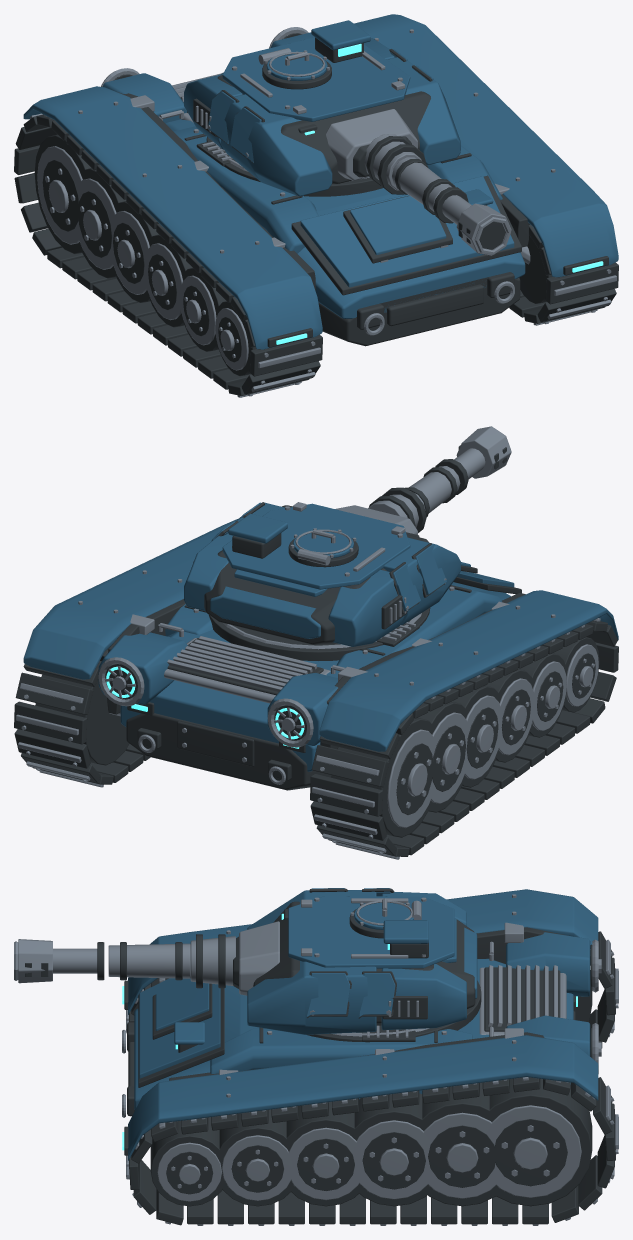
The model's file is tankHybridUpgraded.glb.
The picture shows the model from 3 angles, top to bottom: view 1: azimuth 30°, elevation 25°; view 2: azimuth 150°, elevation 25°; view 3: azimuth 270°, elevation 25°; orthographic projection.
Visible parts, largest first — view 1: modelRoot-team-primary, turretYaw-team-primary, modelRoot-structure, turretYaw-structure, turretYaw-neutral-metal, barrelRecoil-neutral-metal, barrelRecoil-structure, modelRoot-neutral-metal, wheelL5-structure, wheelL5-neutral-metal, wheelL4-structure, wheelL3-structure (+17 smaller); view 2: modelRoot-team-primary, turretYaw-team-primary, modelRoot-structure, modelRoot-neutral-metal, turretYaw-structure, barrelRecoil-neutral-metal, turretYaw-neutral-metal, wheelL5-structure, wheelR5-structure, wheelL5-neutral-metal, wheelL4-structure, barrelRecoil-structure (+17 smaller); view 3: modelRoot-team-primary, turretYaw-team-primary, modelRoot-structure, wheelR5-structure, barrelRecoil-neutral-metal, turretYaw-structure, modelRoot-neutral-metal, wheelR4-structure, wheelR5-neutral-metal, wheelR3-structure, turretYaw-neutral-metal, wheelR2-structure (+28 smaller).
Part boxes in pixels (left/top/right/bottom): modelRoot-team-primary: left=23, top=14, right=618, bottom=349; turretYaw-team-primary: left=184, top=20, right=460, bottom=196; modelRoot-structure: left=113, top=33, right=608, bottom=347; turretYaw-structure: left=193, top=37, right=432, bottom=196; turretYaw-neutral-metal: left=195, top=48, right=417, bottom=181; barrelRecoil-neutral-metal: left=364, top=134, right=511, bottom=255; barrelRecoil-structure: left=366, top=136, right=505, bottom=249; modelRoot-neutral-metal: left=78, top=27, right=555, bottom=335; wheelL5-structure: left=34, top=134, right=90, bottom=254; wheelL5-neutral-metal: left=37, top=146, right=83, bottom=244; wheelL4-structure: left=78, top=168, right=126, bottom=278; wheelL3-structure: left=113, top=201, right=158, bottom=302; modelRoot-team-primary: left=23, top=518, right=618, bottom=771; turretYaw-team-primary: left=184, top=502, right=460, bottom=646; modelRoot-structure: left=105, top=565, right=525, bottom=790; modelRoot-neutral-metal: left=78, top=570, right=555, bottom=784; turretYaw-structure: left=193, top=502, right=444, bottom=660; barrelRecoil-neutral-metal: left=368, top=426, right=511, bottom=527; turretYaw-neutral-metal: left=223, top=502, right=446, bottom=649; wheelL5-structure: left=331, top=717, right=433, bottom=837; wheelR5-structure: left=35, top=674, right=129, bottom=765; wheelL5-neutral-metal: left=387, top=729, right=436, bottom=827; wheelL4-structure: left=418, top=701, right=466, bottom=812; barrelRecoil-structure: left=369, top=445, right=506, bottom=532; modelRoot-team-primary: left=128, top=889, right=598, bottom=1160; turretYaw-team-primary: left=247, top=888, right=477, bottom=1034; modelRoot-structure: left=124, top=927, right=592, bottom=1155; wheelR5-structure: left=486, top=1078, right=592, bottom=1206; barrelRecoil-neutral-metal: left=14, top=936, right=235, bottom=985; turretYaw-structure: left=233, top=888, right=481, bottom=1042; modelRoot-neutral-metal: left=122, top=894, right=598, bottom=1117; wheelR4-structure: left=417, top=1082, right=501, bottom=1206; wheelR5-neutral-metal: left=486, top=1105, right=581, bottom=1197; wheelR3-structure: left=351, top=1093, right=432, bottom=1206; turretYaw-neutral-metal: left=239, top=897, right=429, bottom=1036; wheelR2-structure: left=284, top=1101, right=363, bottom=1206.
Size of the model in its own units: 2.11 by 1.23 by 2.95.
